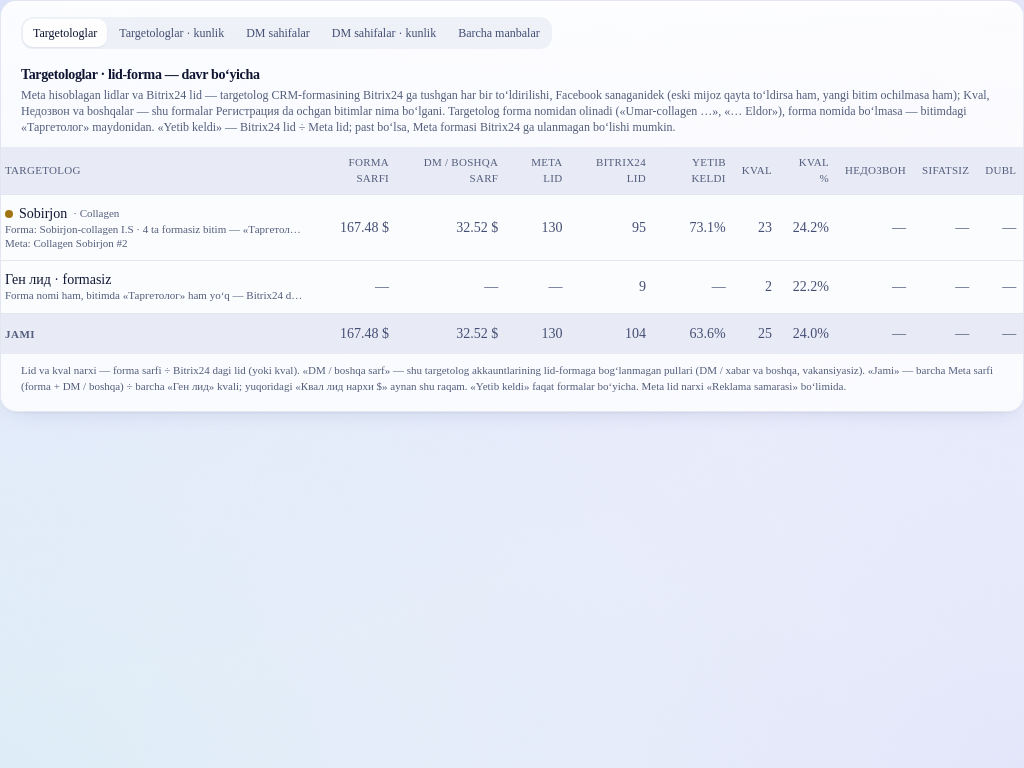
it: TablesBlock › carries «Barcha manbalar» as the fifth table
Step 1. Click the button "Barcha manbalar" → (499, 33), box [448,19,550,47]
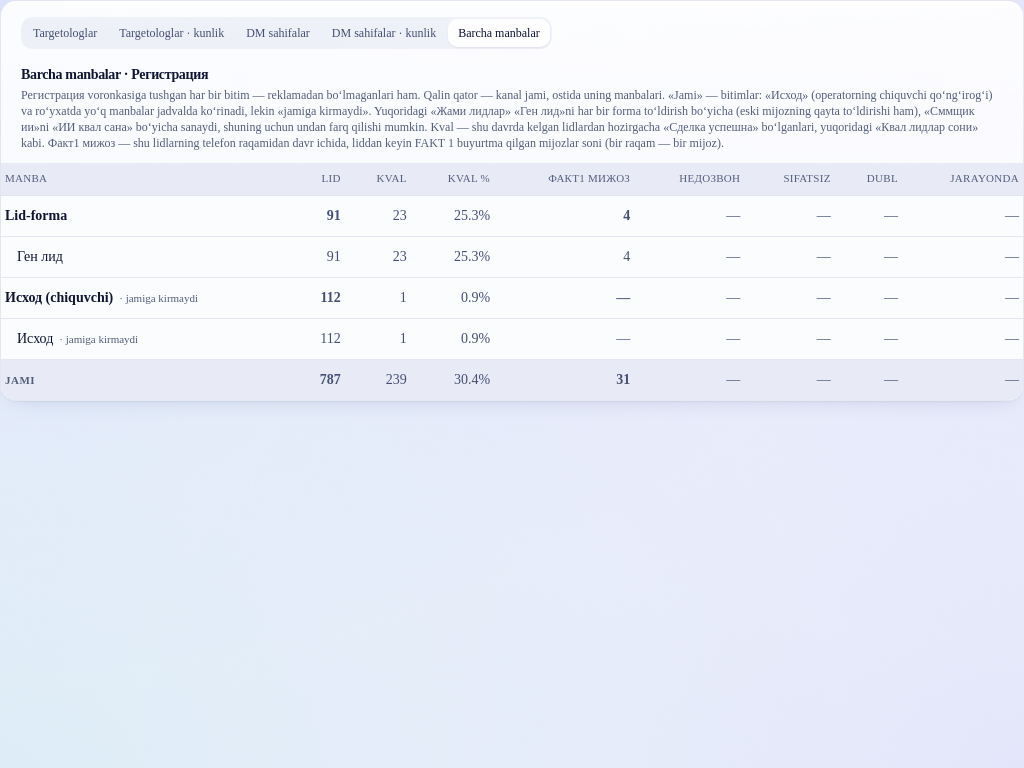
Expected: the text "Lid-forma" is shown, [5,208,67,223]
Expected: the heading "Barcha manbalar · Регистрация" is shown, [21,67,208,82]
Expected: the column heading "Факт1 мижоз" is shown, [498,163,638,195]
